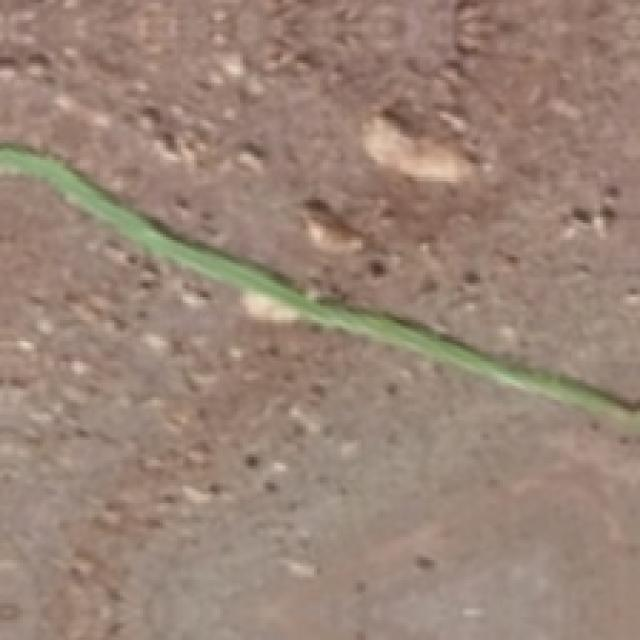red-tailed green ratsnake: (0, 143, 637, 434)
